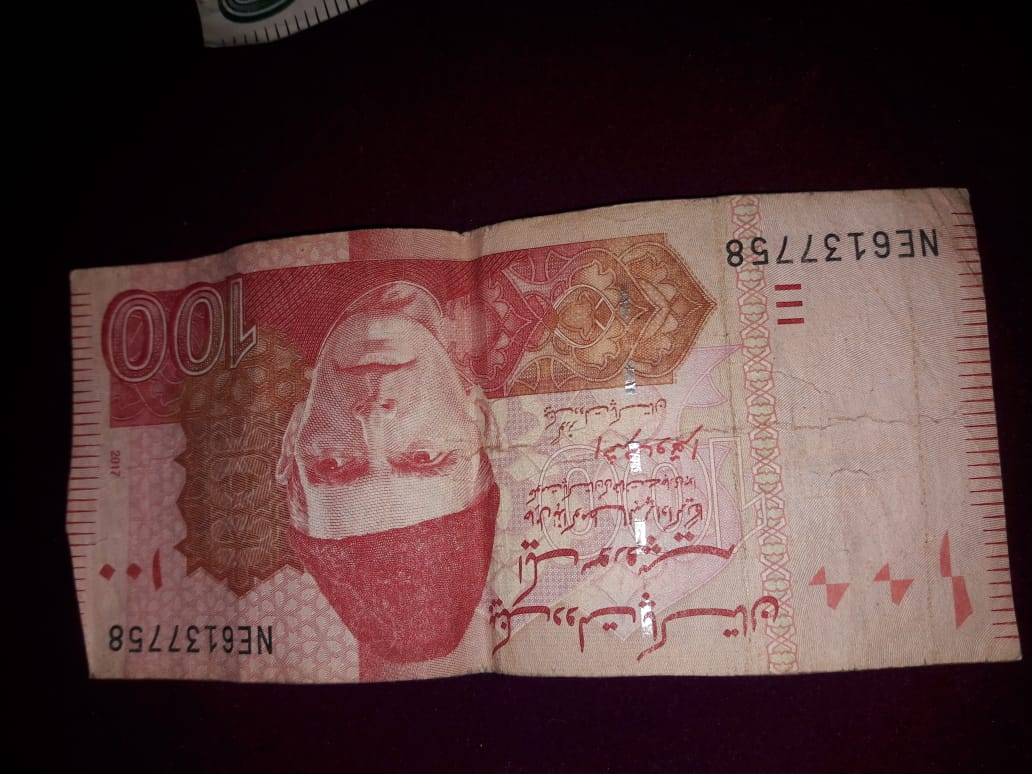100 rupee: (57, 184, 1022, 678)
